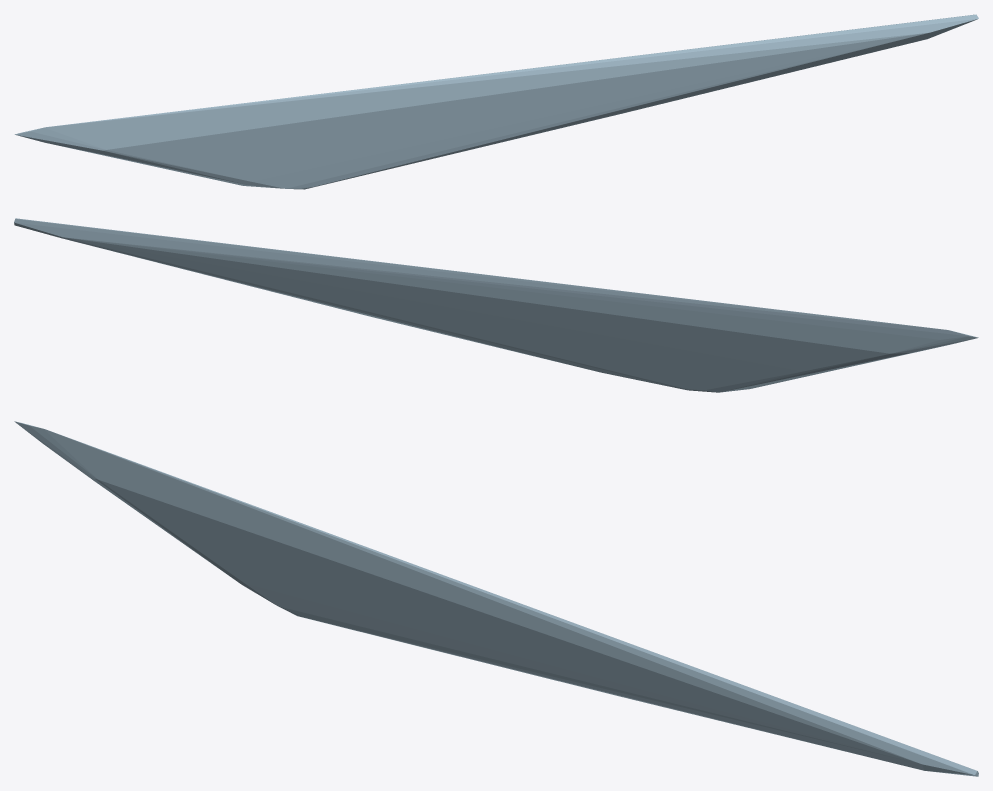
Rendered from instrument_redonspike_a01.glb.
The picture shows the model from 3 angles, top to bottom: view 1: azimuth 30°, elevation 25°; view 2: azimuth 150°, elevation 25°; view 3: azimuth 330°, elevation 25°; orthographic projection.
Parts seen in each view (by area): view 1: geometry_0; view 2: geometry_0; view 3: geometry_0.
Boxes of the visible parts, x1,y1,x2,y2 form: geometry_0: [14, 14, 978, 189]; geometry_0: [14, 218, 978, 392]; geometry_0: [14, 421, 978, 776].
Size of the model in its own units: 0.4789 by 0.0598 by 0.00704.
